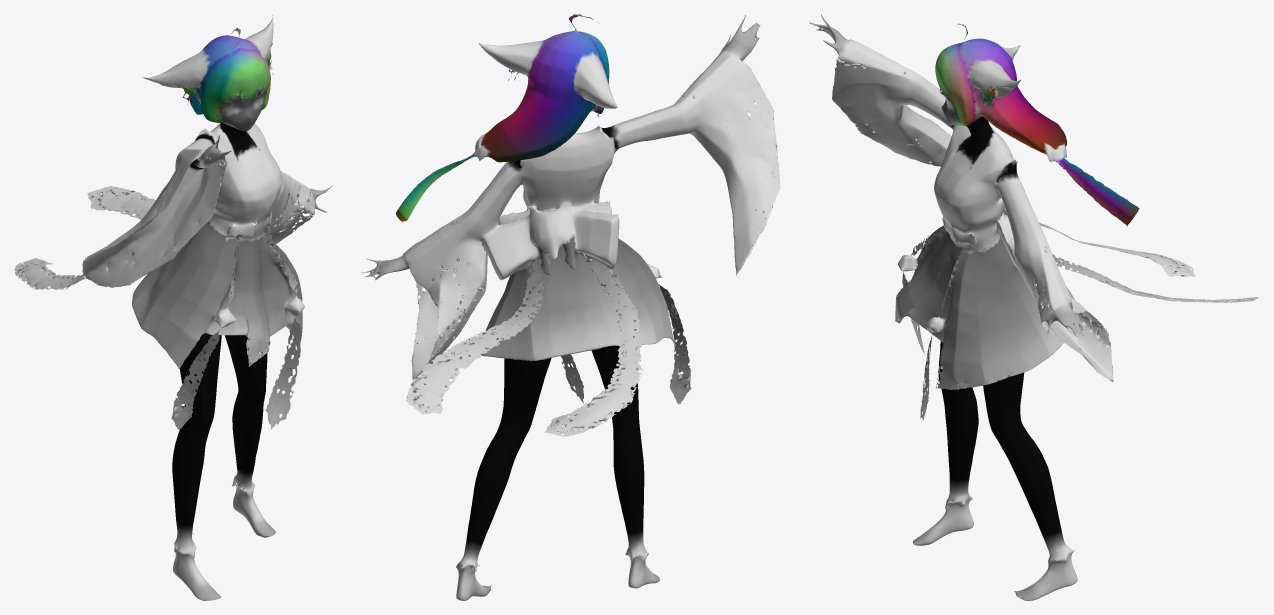
Rendered from SK_Cartoon_60_H.fbx.
3 renders of one model, left to right at view 1: azimuth 30°, elevation 25°; view 2: azimuth 150°, elevation 25°; view 3: azimuth 270°, elevation 25°, orthographic. The views are drawn at different scales.
Visible parts, largest first — view 1: SK_Cartoon_Female_0600; view 2: SK_Cartoon_Female_0600; view 3: SK_Cartoon_Female_0600.
Part boxes in pixels (x1,y1,x2,y2): SK_Cartoon_Female_0600: [14, 15, 332, 600]; SK_Cartoon_Female_0600: [362, 14, 780, 600]; SK_Cartoon_Female_0600: [809, 14, 1258, 600].
Bounding box in the file's own units: 102 × 170 × 128.
